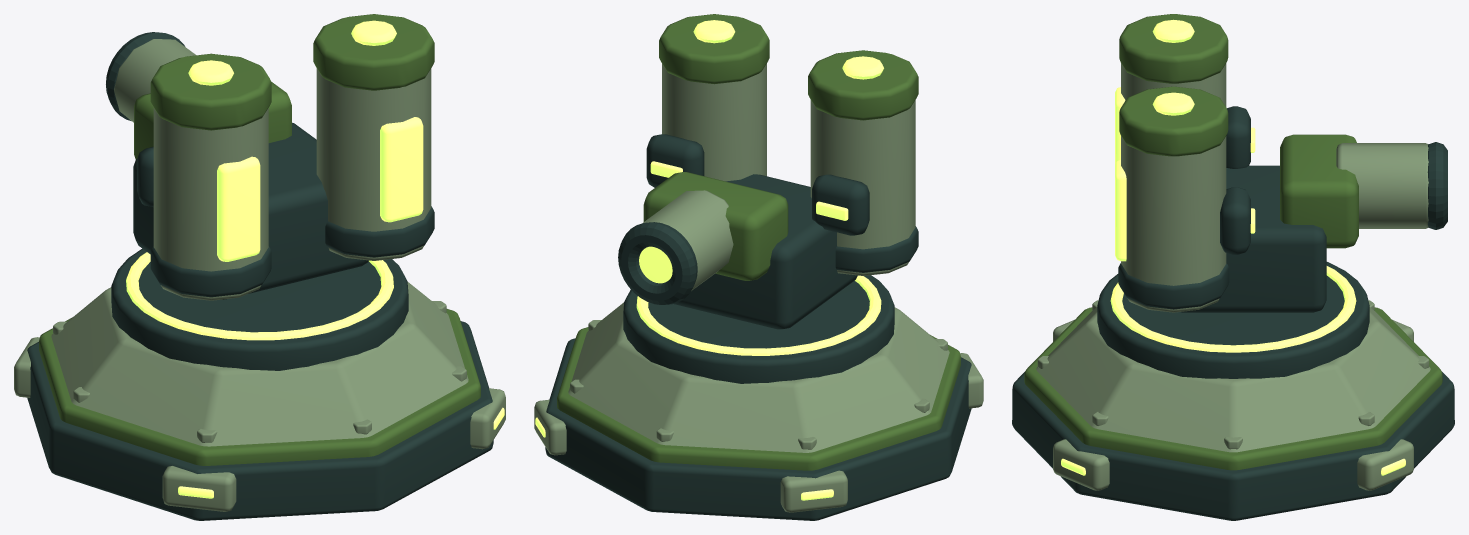
Rendered from venom.glb.
3 views of the same model, side by side, from view 1: azimuth 30°, elevation 25°; view 2: azimuth 150°, elevation 25°; view 3: azimuth 270°, elevation 25° (orthographic). The views are drawn at different scales.
Parts seen in each view (by area): view 1: Sloped armor, Anchored chassis, Turret bearing, Reagent tank, Reagent tank.001, Trim, Reagent pump, Tank cap, Tank cap.001, Reagent sight glass, Reagent sight glass.001, Power ring (+11 smaller); view 2: Sloped armor, Anchored chassis, Turret bearing, Reagent pump, Reagent tank, Trim, Reagent tank.001, Pump face, Tank cap, Tank cap.001, Nozzle shroud, Reagent nozzle (+10 smaller); view 3: Sloped armor, Anchored chassis, Turret bearing, Reagent tank.001, Reagent pump, Trim, Pump face, Reagent nozzle, Tank cap.001, Tank cap, Power ring, Tank bottom ring.001 (+9 smaller).
Boxes of the visible parts, box(x1,y1,x2,y2) form: Sloped armor: box(51, 282, 468, 446); Anchored chassis: box(27, 321, 493, 520); Turret bearing: box(111, 248, 408, 370); Reagent tank: box(153, 108, 268, 300); Reagent tank.001: box(316, 68, 431, 260); Trim: box(39, 309, 480, 465); Reagent pump: box(133, 122, 368, 299); Tank cap: box(150, 53, 271, 130); Tank cap.001: box(313, 14, 434, 90); Reagent sight glass: box(217, 156, 260, 261); Reagent sight glass.001: box(380, 117, 423, 222); Power ring: box(126, 252, 393, 340); Sloped armor: box(568, 302, 949, 452); Anchored chassis: box(545, 338, 971, 520); Turret bearing: box(623, 275, 894, 383); Reagent pump: box(674, 174, 857, 329); Reagent tank: box(810, 100, 915, 275); Trim: box(557, 327, 960, 470); Reagent tank.001: box(662, 63, 766, 181); Pump face: box(643, 172, 788, 280); Tank cap: box(808, 50, 918, 120); Tank cap.001: box(659, 14, 769, 84); Nozzle shroud: box(618, 222, 697, 304); Reagent nozzle: box(643, 190, 733, 290); Sloped armor: box(1036, 307, 1430, 452); Anchored chassis: box(1012, 372, 1454, 520); Turret bearing: box(1097, 262, 1369, 378); Reagent tank.001: box(1121, 136, 1226, 312); Reagent pump: box(1181, 165, 1326, 312); Trim: box(1024, 307, 1442, 470); Pump face: box(1280, 134, 1358, 248); Reagent nozzle: box(1336, 143, 1428, 228); Tank cap.001: box(1119, 86, 1228, 156); Tank cap: box(1119, 14, 1228, 83); Power ring: box(1110, 266, 1356, 352); Tank bottom ring.001: box(1118, 263, 1229, 309).
Bounding box in the file's own units: 1.85 × 1.69 × 1.85.
